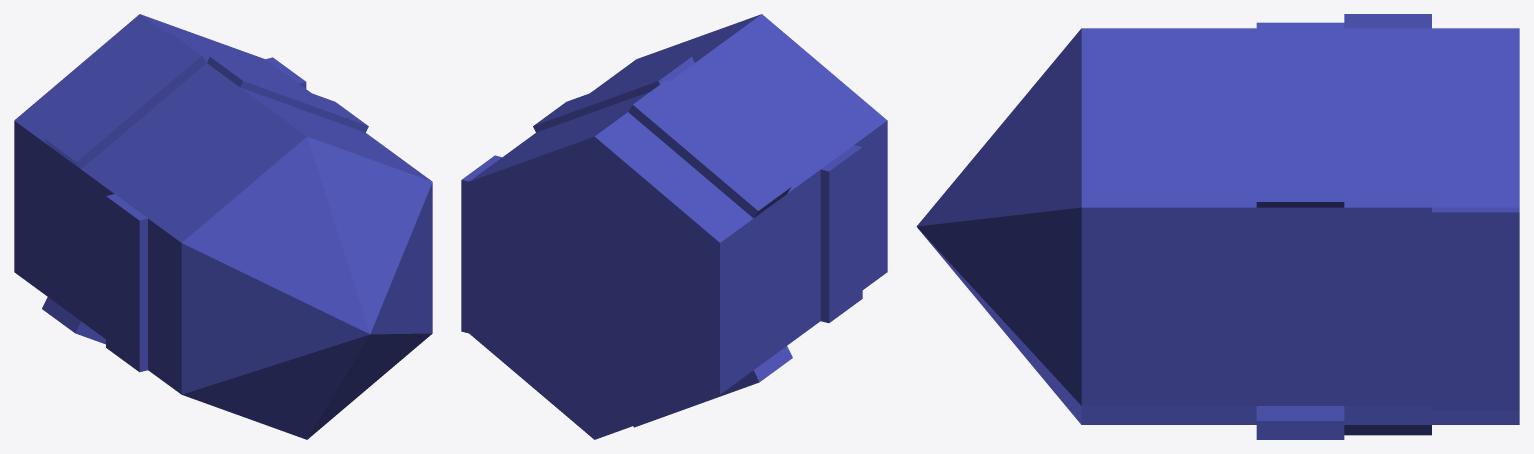
File: upgrade.glb
3 renders of one model, left to right at view 1: azimuth 30°, elevation 25°; view 2: azimuth 150°, elevation 25°; view 3: azimuth 270°, elevation 25°, orthographic. The views are drawn at different scales.
Parts seen in each view (by area): view 1: Cylinder; view 2: Cylinder; view 3: Cylinder.
Part boxes in pixels (x1,y1,x2,y2): Cylinder: (14, 14, 432, 439); Cylinder: (461, 14, 887, 439); Cylinder: (916, 14, 1519, 439).
Size of the model in its own units: 1.84 by 2.13 by 2.75.
